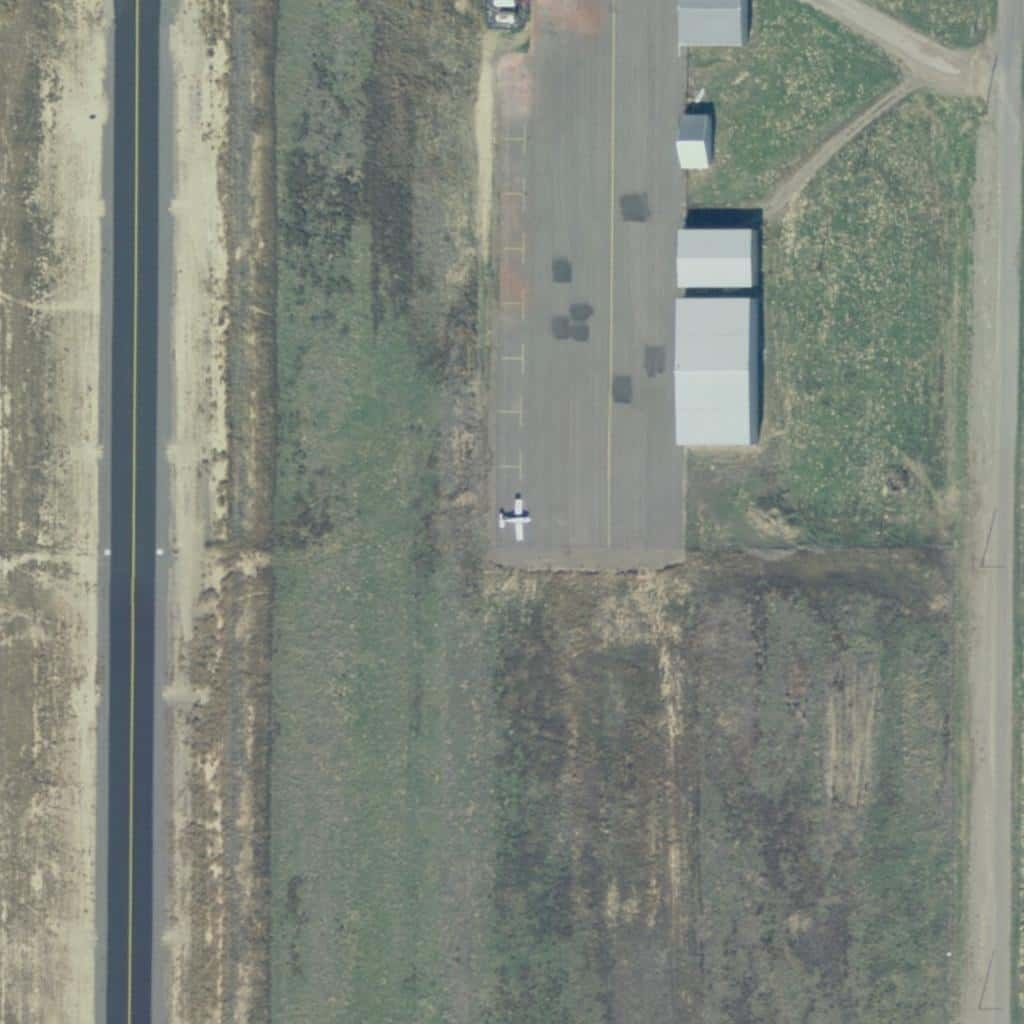plane: (496, 496, 533, 544)
